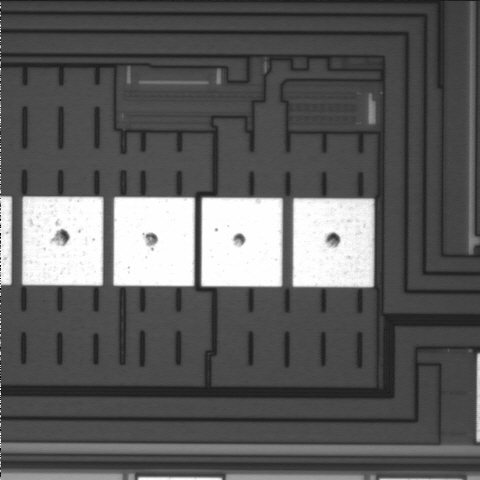pad: (113, 197, 195, 286), (201, 198, 283, 287), (22, 197, 103, 286), (293, 198, 374, 287)
